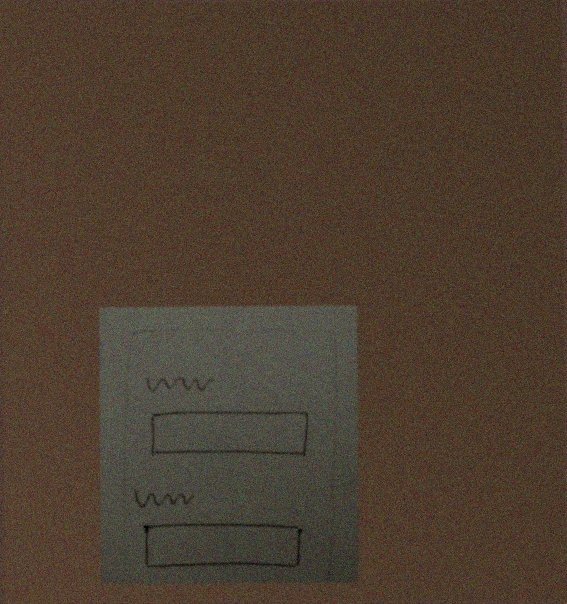text: (143, 369, 217, 397), (132, 485, 197, 511)
text_input: (148, 408, 312, 463), (140, 518, 305, 572)
